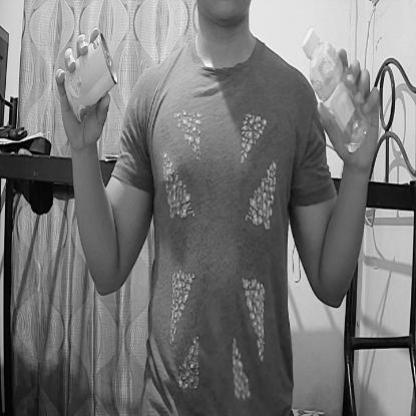Plastic Bottle: (300, 23, 382, 162)
